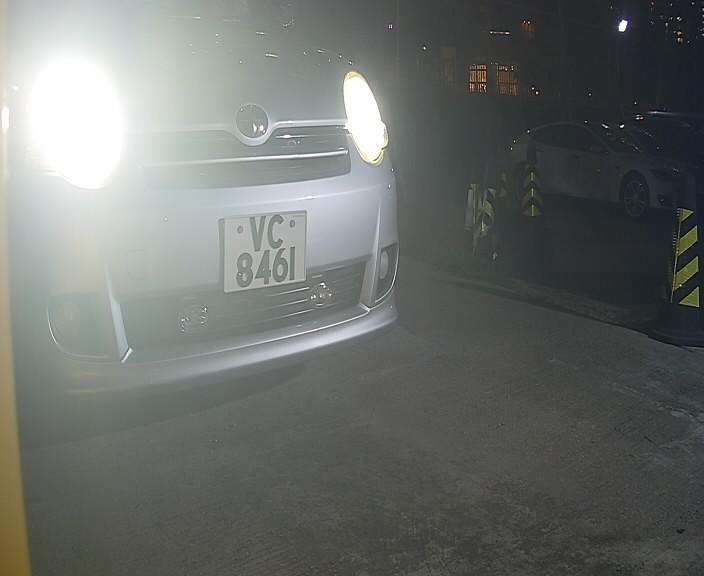Car: (4, 21, 497, 451)
License Plate: (208, 193, 312, 312)
